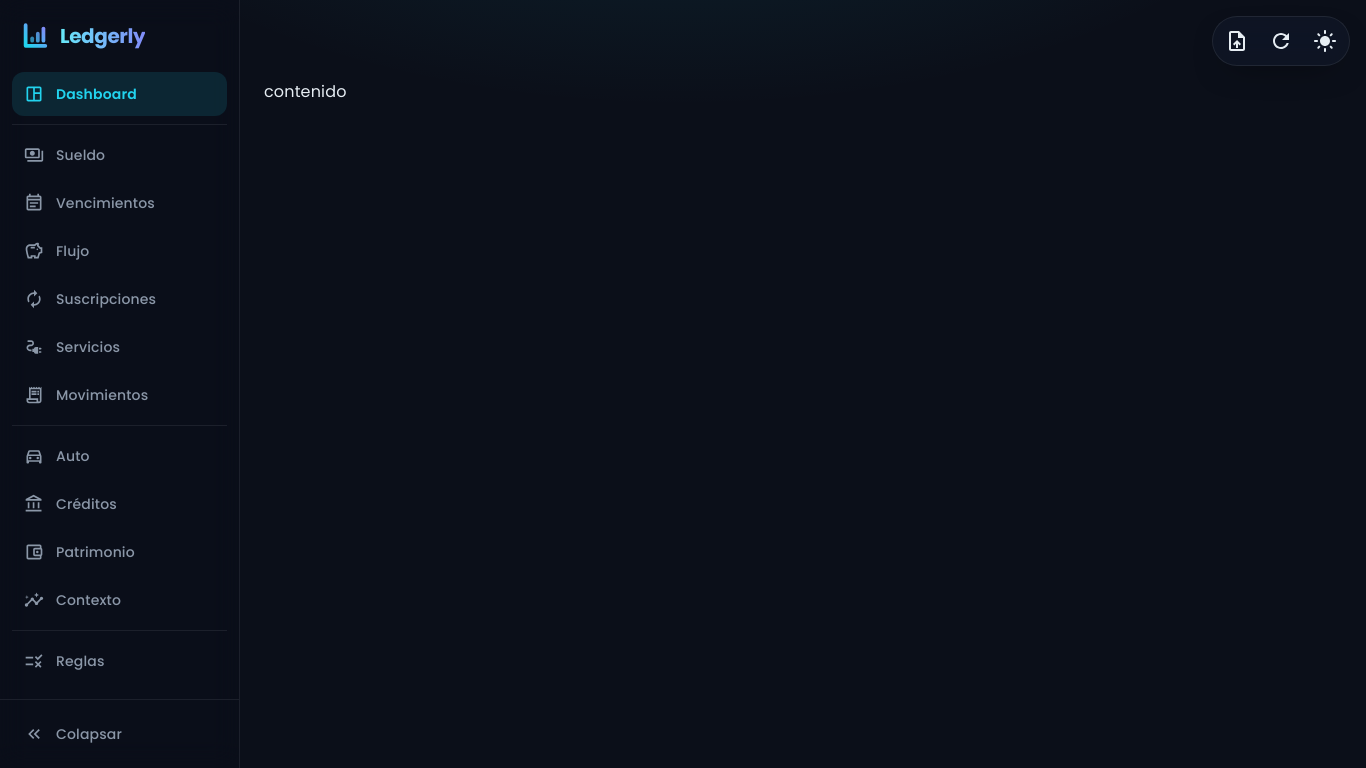
Scenario: Layout › colapsar la sidebar oculta los textos pero mantiene los links accesibles
This screenshot has width=1366, height=768.
Click the button with aria-label "colapsar menú": (73, 734) [24,724,122,744]
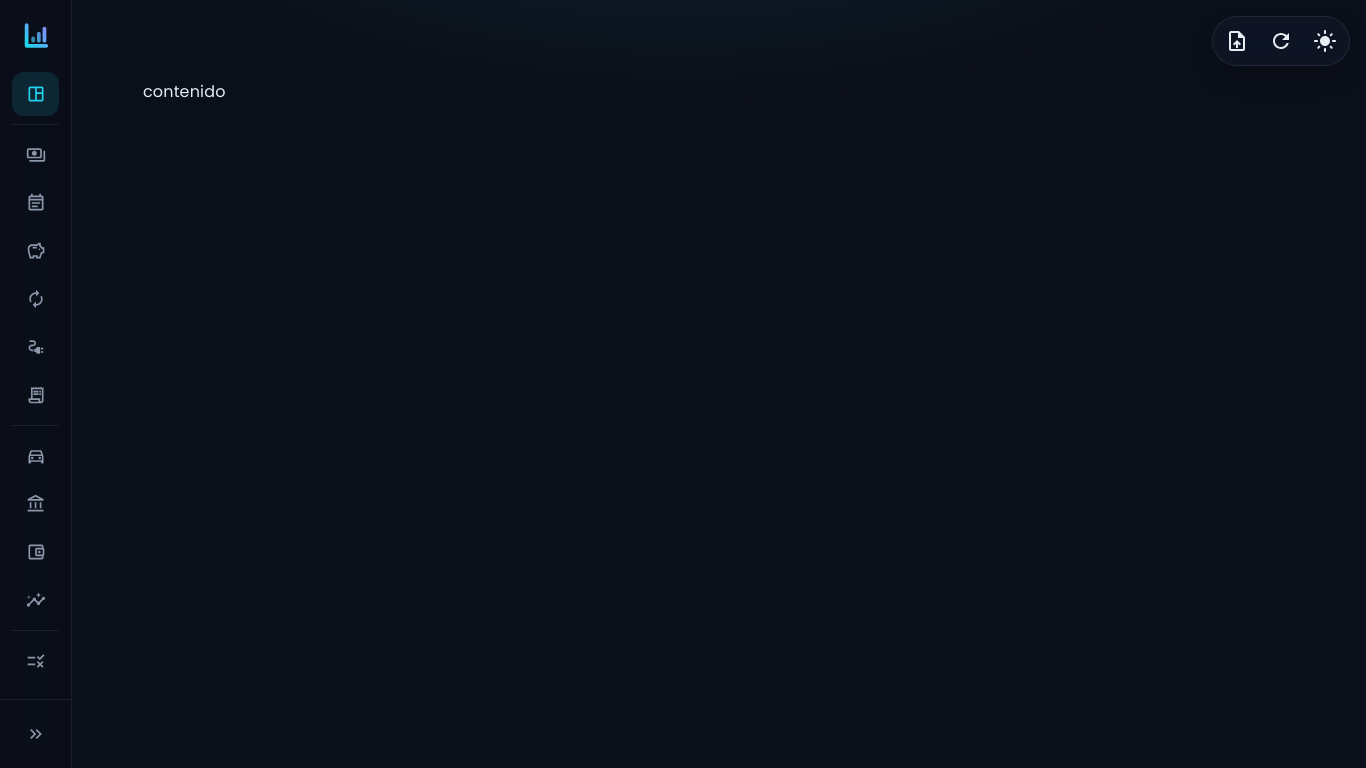
Expected: the link named "movimientos" is shown, [26,385,46,405]
Expected: the text "Movimientos" is gone
Expected: the button named "expandir menú" is shown, [26,724,46,744]
